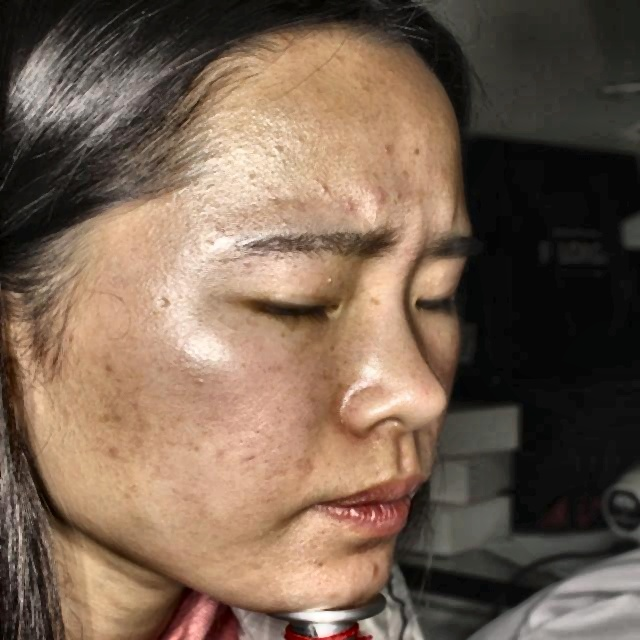comedone: (355, 556, 393, 580)
